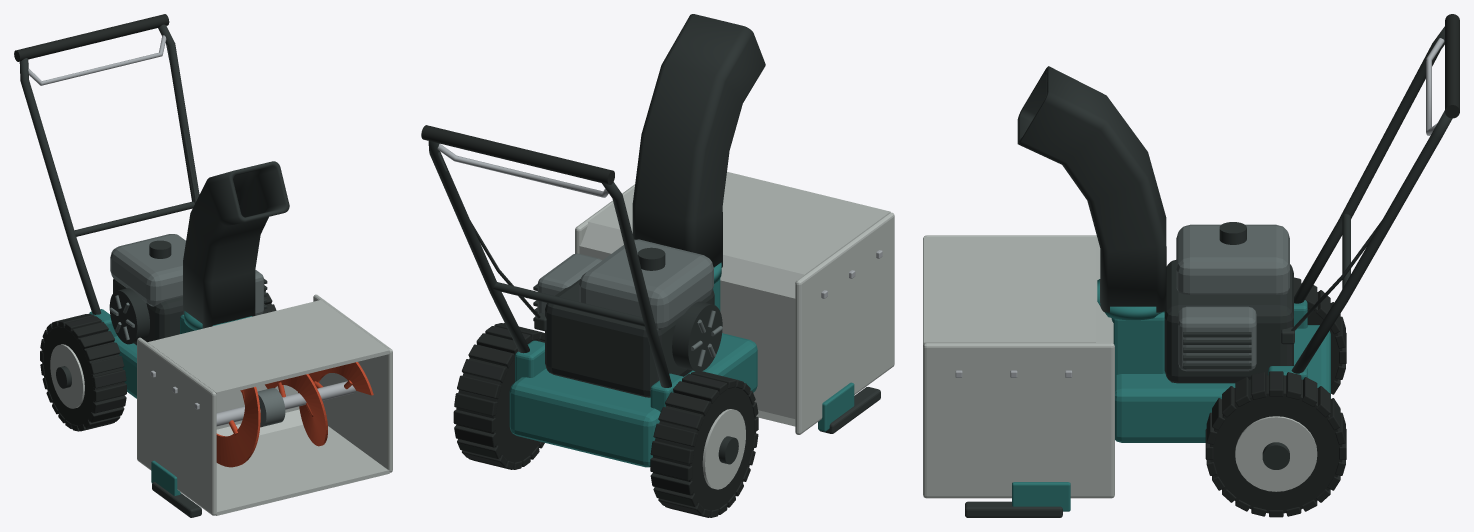
3 views of the same model, side by side, from view 1: azimuth 30°, elevation 25°; view 2: azimuth 150°, elevation 25°; view 3: azimuth 270°, elevation 25° (orthographic). The views are drawn at different scales.
Visible parts, largest first — view 1: Closed sheet open-front auger bucket, Open curved discharge chute shell, Bucket side cheek -1, Bucket side cheek 1, Raised engine upper cover, Original spiral auger ribbon 1, Rear tire -1, Rear handle rail -1, Original spiral auger ribbon -1, Upper handle grip bridge, Side starter round housing, Rear handle rail 1 (+10 smaller); view 2: Closed sheet open-front auger bucket, Open curved discharge chute shell, Bucket side cheek -1, Main closed drive chassis, Lower engine block, Raised engine upper cover, Rear tire -1, Upper handle grip bridge, Rear handle rail 1, Side starter round housing, Rear handle rail -1, Rear tire 1 (+22 smaller); view 3: Bucket side cheek 1, Closed sheet open-front auger bucket, Open curved discharge chute shell, Main closed drive chassis, Raised engine upper cover, Rear tire 1, Lower engine block, Rear wheel rim 1, Side muffler enclosure, Rear handle rail 1, Rear handle rail -1, Generic closed chute support housing (+6 smaller).
Boxes of the visible parts, <box> form: Closed sheet open-front auger bucket: <box>147,300,389,515</box>; Open curved discharge chute shell: <box>183,161,289,328</box>; Bucket side cheek -1: <box>137,337,216,515</box>; Bucket side cheek 1: <box>313,294,392,472</box>; Raised engine upper cover: <box>110,234,185,306</box>; Original spiral auger ribbon 1: <box>265,362,373,446</box>; Rear tire -1: <box>42,324,124,428</box>; Rear handle rail -1: <box>19,58,100,314</box>; Original spiral auger ribbon -1: <box>216,386,260,467</box>; Upper handle grip bridge: <box>14,14,169,61</box>; Side starter round housing: <box>109,288,149,344</box>; Rear handle rail 1: <box>158,24,199,201</box>; Closed sheet open-front auger bucket: <box>579,171,890,426</box>; Open curved discharge chute shell: <box>632,14,765,267</box>; Bucket side cheek -1: <box>795,212,894,434</box>; Main closed drive chassis: <box>509,333,757,467</box>; Lower engine block: <box>545,279,714,397</box>; Raised engine upper cover: <box>579,239,713,330</box>; Rear tire -1: <box>653,384,756,513</box>; Upper handle grip bridge: <box>421,125,614,184</box>; Rear handle rail 1: <box>428,141,529,353</box>; Side starter round housing: <box>672,301,722,371</box>; Rear handle rail -1: <box>602,182,671,387</box>; Rear tire 1: <box>456,336,544,465</box>; Bucket side cheek 1: <box>923,343,1114,498</box>; Closed sheet open-front auger bucket: <box>923,237,1113,343</box>; Open curved discharge chute shell: <box>1017,66,1166,312</box>; Main closed drive chassis: <box>1115,325,1330,442</box>; Raised engine upper cover: <box>1176,224,1289,294</box>; Rear tire 1: <box>1210,375,1342,513</box>; Lower engine block: <box>1164,260,1293,383</box>; Rear wheel rim 1: <box>1235,416,1317,491</box>; Side muffler enclosure: <box>1178,306,1256,371</box>; Rear handle rail 1: <box>1291,110,1452,373</box>; Rear handle rail -1: <box>1294,26,1444,303</box>; Generic closed chute support housing: <box>1111,312,1165,375</box>.
Size of the model in its own units: 0.742 by 1.13 by 1.37.
